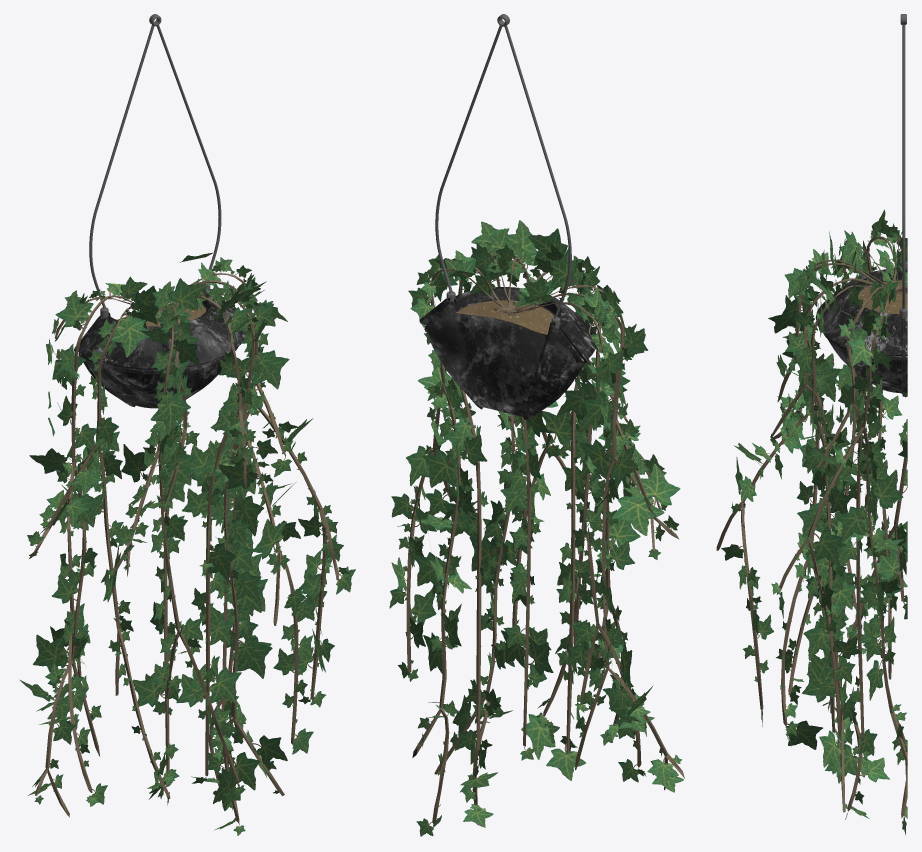
The model's file is hanging-plant.glb.
3 renders of one model, left to right at view 1: azimuth 30°, elevation 25°; view 2: azimuth 150°, elevation 25°; view 3: azimuth 270°, elevation 25°, orthographic. The views are drawn at different scales.
Parts seen in each view (by area): view 1: plant.000; view 2: plant.000; view 3: plant.000.
Boxes of the visible parts, x1=… form: plant.000: x1=19, y1=14, x2=355, y2=835; plant.000: x1=389, y1=14, x2=684, y2=836; plant.000: x1=716, y1=14, x2=907, y2=835.
Bounding box in the file's own units: 0.6144 × 1.59 × 0.3506.
5 materials, 5 textured.
